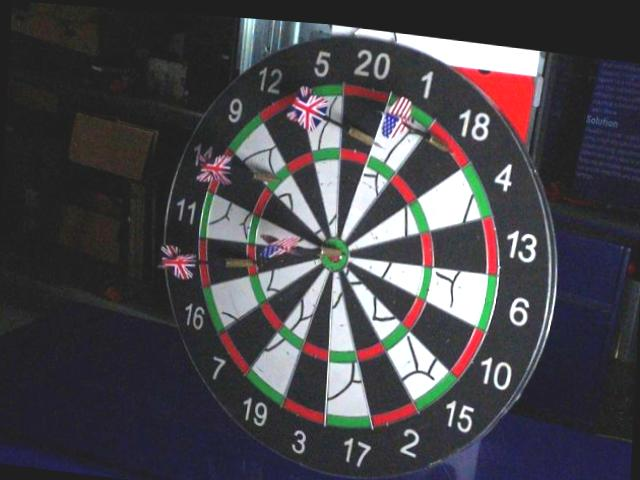bullseye: (321, 238, 350, 271)
double_18: (428, 125, 470, 171)
single_1: (373, 118, 421, 163)
triple_8: (237, 245, 256, 276)
triple_9: (265, 168, 290, 192)
